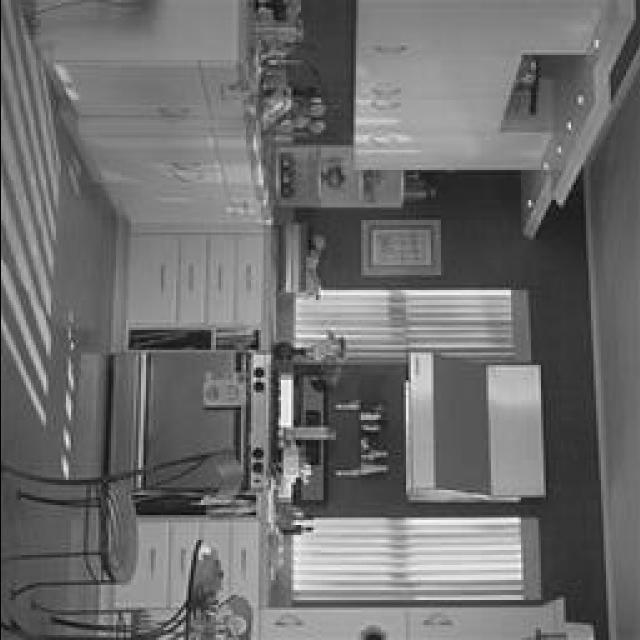chair: (2, 440, 250, 600)
table: (2, 530, 236, 639)
